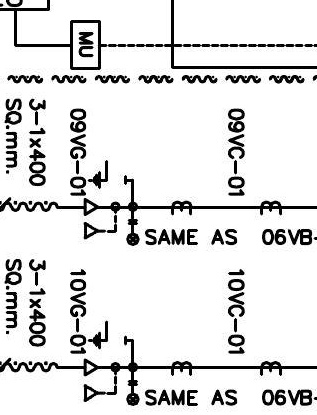22_gs: (88, 159, 128, 190), (88, 320, 128, 350)
22_ll: (126, 218, 141, 246), (126, 379, 141, 407)
MU: (69, 20, 102, 70)
terminator_w_future: (83, 358, 118, 403), (83, 197, 118, 241)
